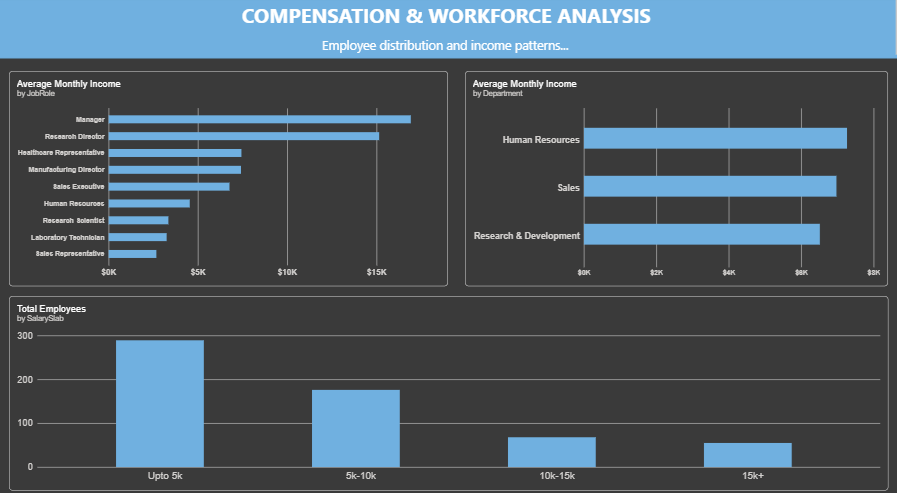

Layout of this report page (visuals, bound fields, positions):
{"tool":"powerbi","page":{"name":"Compensation","canvas":[1920,1080],"ordinal":1},"visuals":[{"type":"barChart","fields":{"Category":["HR_analytics.Department"],"Y":["HR_anlytics.Average Monthly Income"]},"box":[996.2,163,900.5,458],"z":0},{"type":"barChart","fields":{"Category":["HR_anlytics.JobRole"],"Y":["HR_anlytics.Average Monthly Income"]},"box":[25.9,163,934.1,458],"z":1},{"type":"shape","box":[0,0,1920,137.1],"z":2},{"type":"textbox","box":[0,0,1920,137.1],"z":3},{"type":"clusteredColumnChart","fields":{"Category":["HR_anlytics.SalarySlab"],"Y":["HR_anlytics.Total Employees"]},"box":[25.9,641.7,1870.8,414],"z":4}]}

Visuals, with their boxes in screenshot pixels (x1, y1, x2, y2), scaled from the page's 1920x1080 canvas onto the 897x493 screenshot:
barChart - HR_analytics.Department x HR_anlytics.Average Monthly Income: bbox=(465, 74, 886, 283)
barChart - HR_anlytics.JobRole x HR_anlytics.Average Monthly Income: bbox=(12, 74, 448, 283)
shape: bbox=(0, 0, 896, 63)
textbox: bbox=(0, 0, 896, 63)
clusteredColumnChart - HR_anlytics.SalarySlab x HR_anlytics.Total Employees: bbox=(12, 293, 886, 482)
